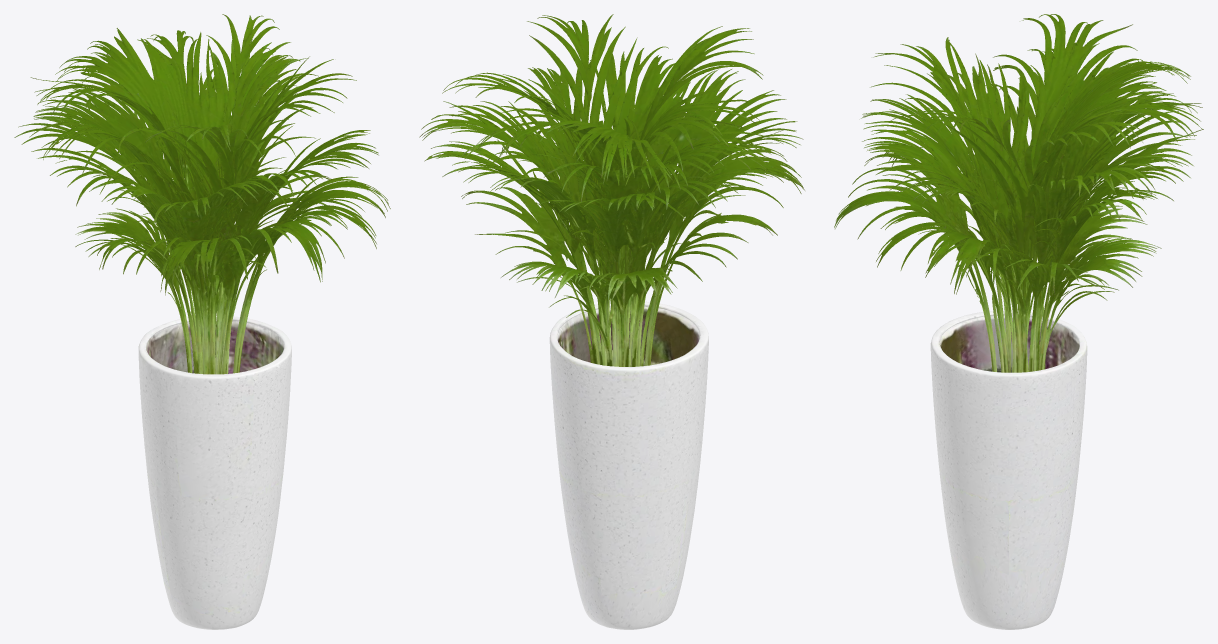
Rendered from go-hooked-home-decor-planter-decorative-planter-pe-light.glb.
The picture shows the model from 3 angles, left to right: view 1: azimuth 30°, elevation 25°; view 2: azimuth 150°, elevation 25°; view 3: azimuth 270°, elevation 25°; orthographic projection. The views are drawn at different scales.
Parts seen in each view (by area): view 1: mesh_node; view 2: mesh_node; view 3: mesh_node.
Boxes of the visible parts, bbox=[...] form: mesh_node: bbox=[14, 14, 390, 629]; mesh_node: bbox=[419, 14, 804, 629]; mesh_node: bbox=[834, 14, 1203, 629].
Bounding box in the file's own units: 1.12 × 1.9 × 1.17.
1 material, 1 textured.
